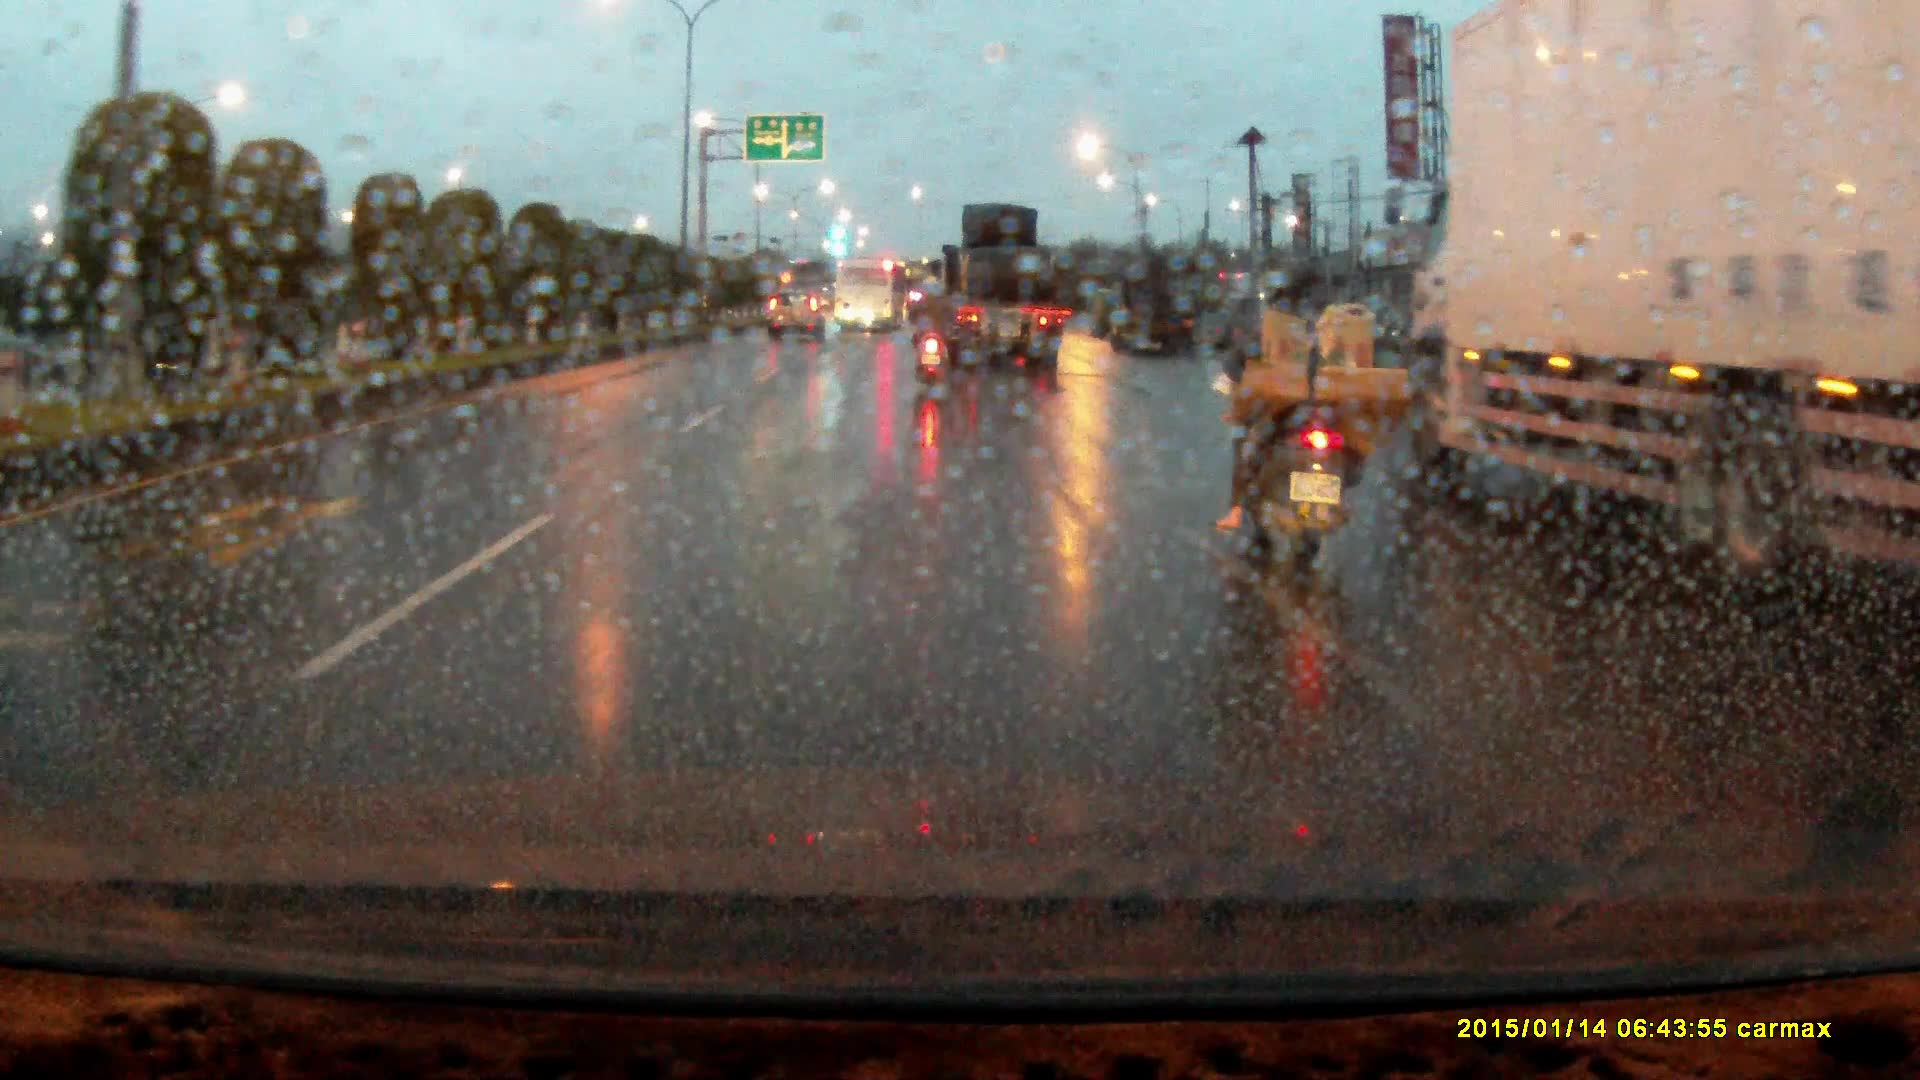rider: (1210, 253, 1417, 586), (910, 283, 954, 395)
vehicle: (1401, 1, 1920, 575), (919, 202, 1061, 370), (1115, 260, 1199, 357), (836, 260, 906, 333), (768, 290, 826, 341), (1091, 287, 1126, 335)
